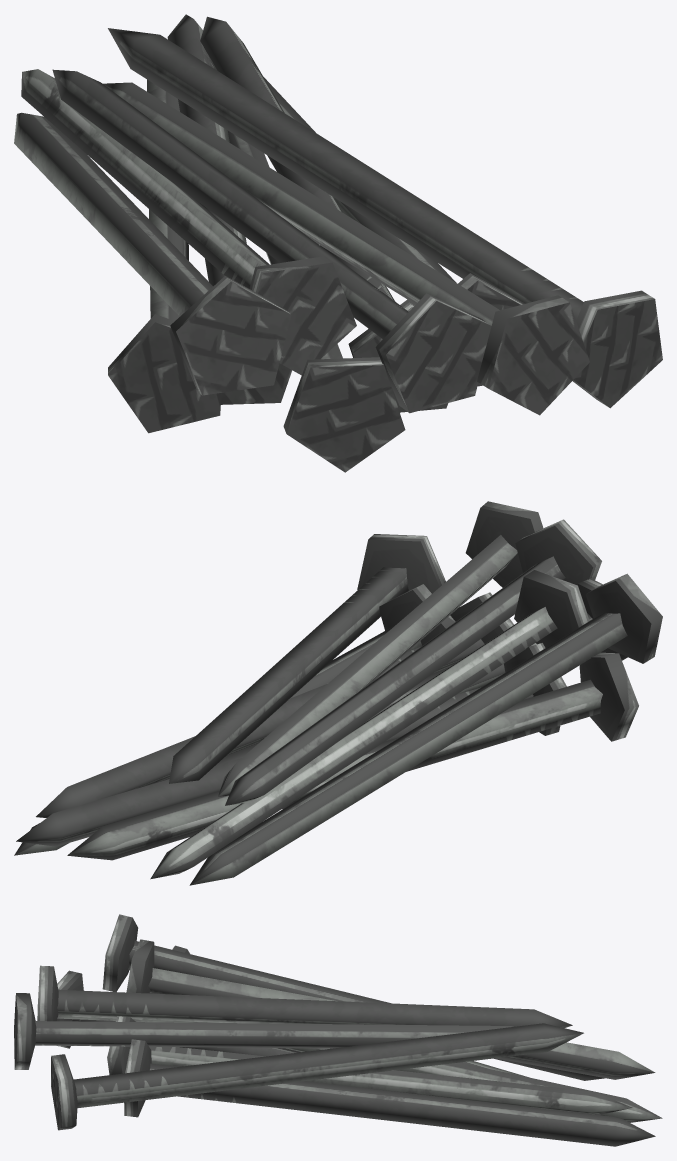
The model's file is handfulOfNails.fbx.
3 views of the same model, one above another, from view 1: azimuth 30°, elevation 25°; view 2: azimuth 150°, elevation 25°; view 3: azimuth 270°, elevation 25° (orthographic). The views are drawn at different scales.
Parts seen in each view (by area): view 1: handfulOfNails; view 2: handfulOfNails; view 3: handfulOfNails.
Part boxes in pixels (left/top/right/bottom): handfulOfNails: left=14, top=14, right=662, bottom=472; handfulOfNails: left=14, top=501, right=662, bottom=885; handfulOfNails: left=14, top=914, right=662, bottom=1146.
Bounding box in the file's own units: 9.62 × 3.47 × 18.17.
